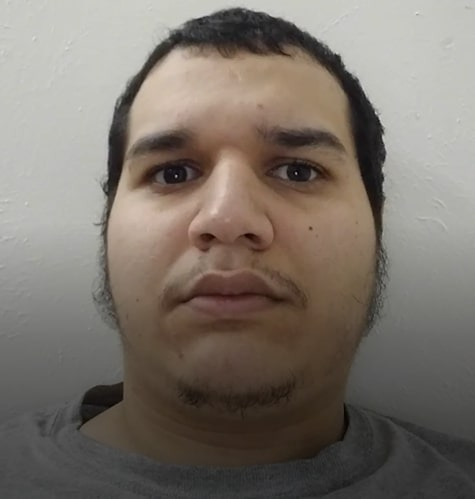Not Sleeping: (110, 128, 357, 205)
